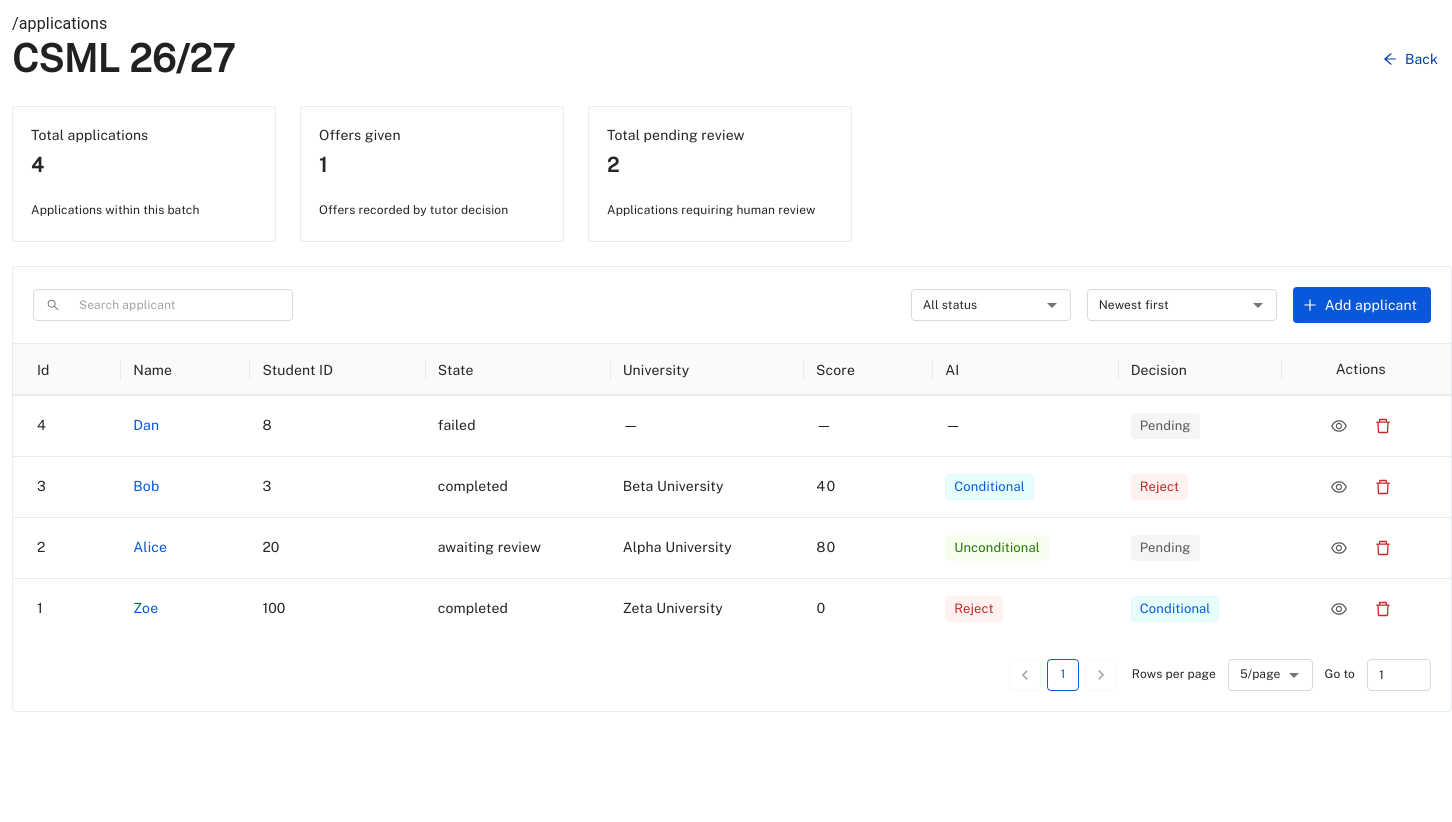
Test: applicant column sorting › toggles Score in both directions and preserves the underlying records
Click the button "Score": (836, 370) [816, 362, 855, 378]
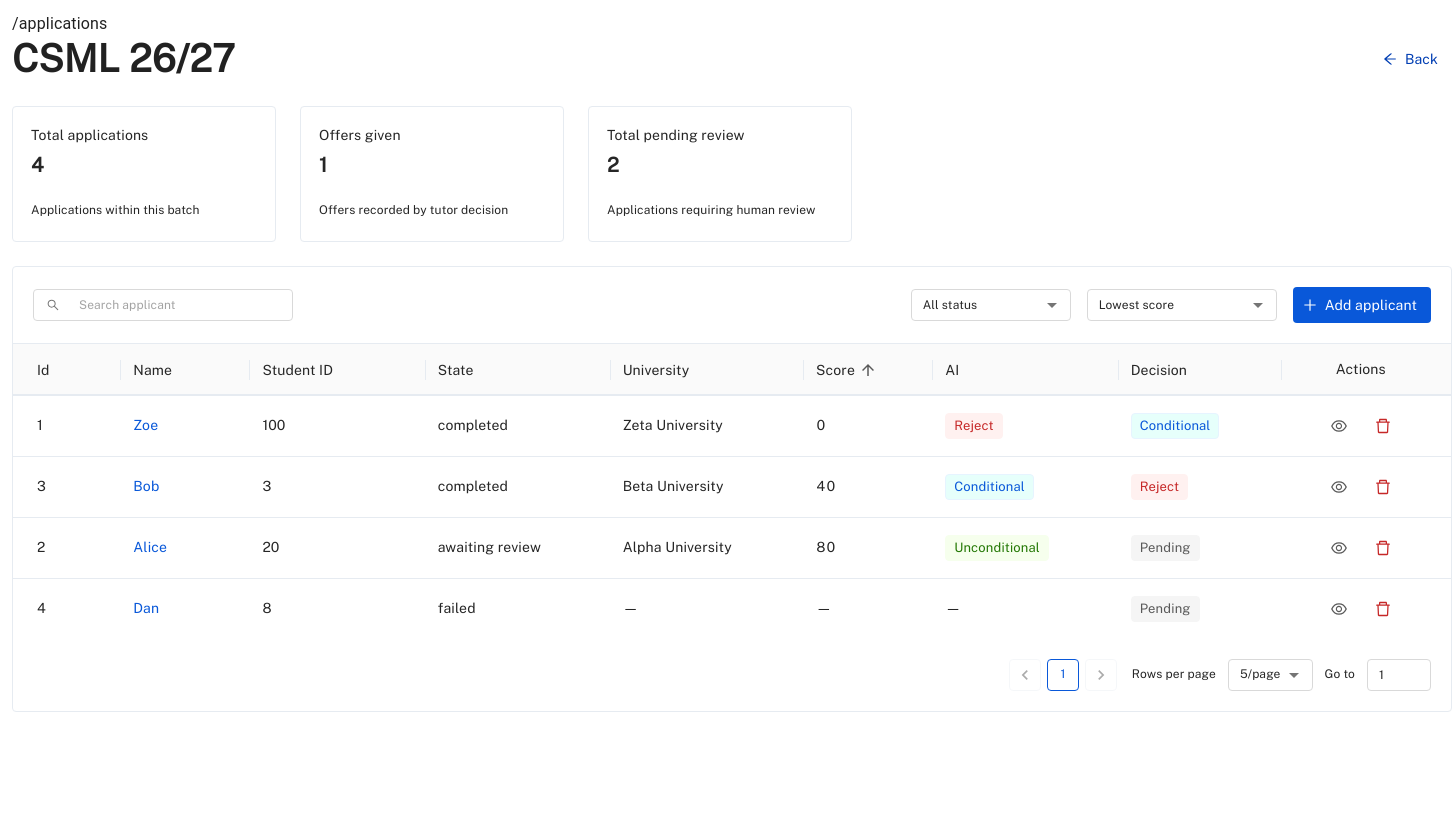
expect the column heading "Score" has attribute aria-sort="ascending": met, box [804, 344, 933, 395]
Click the button "Score": (849, 370) [816, 358, 881, 382]
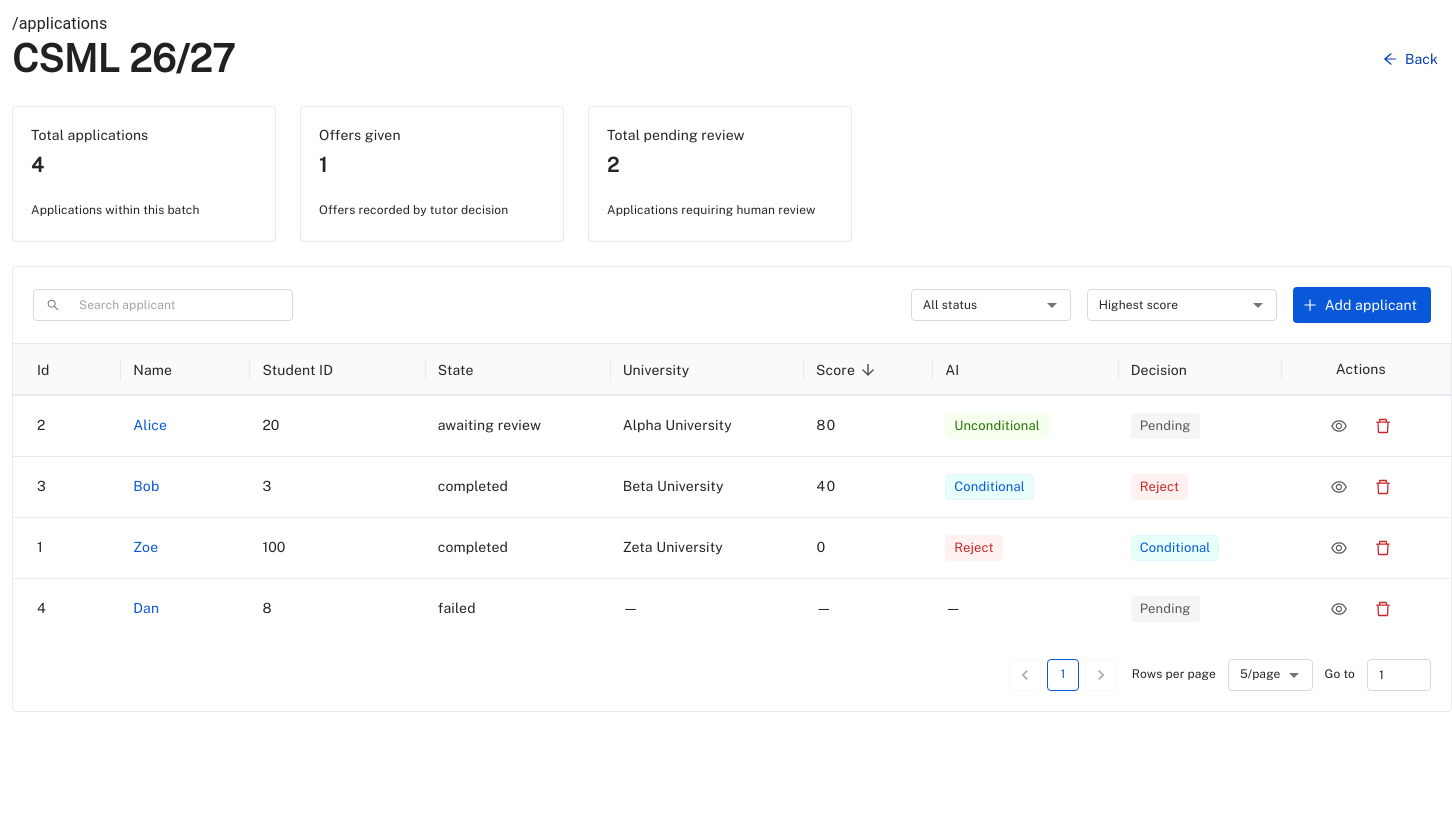
expect the dropdown named "Sort by" reads "Highest score": met, box [1099, 298, 1178, 312]
